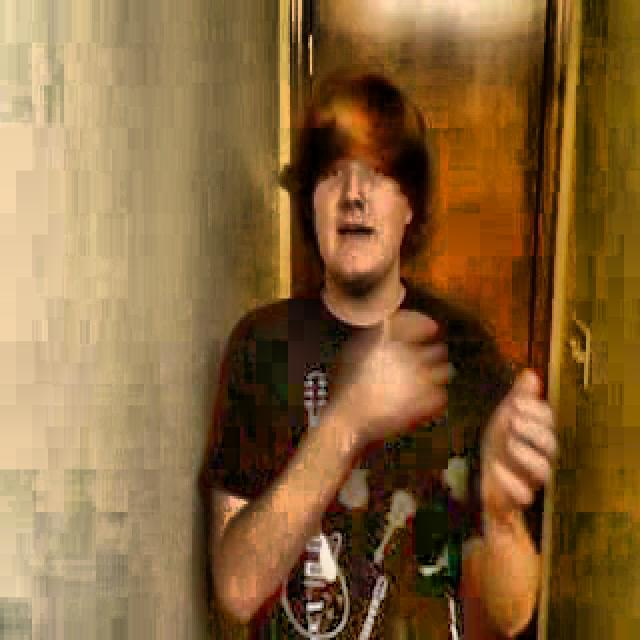F: (207, 76, 516, 640)
